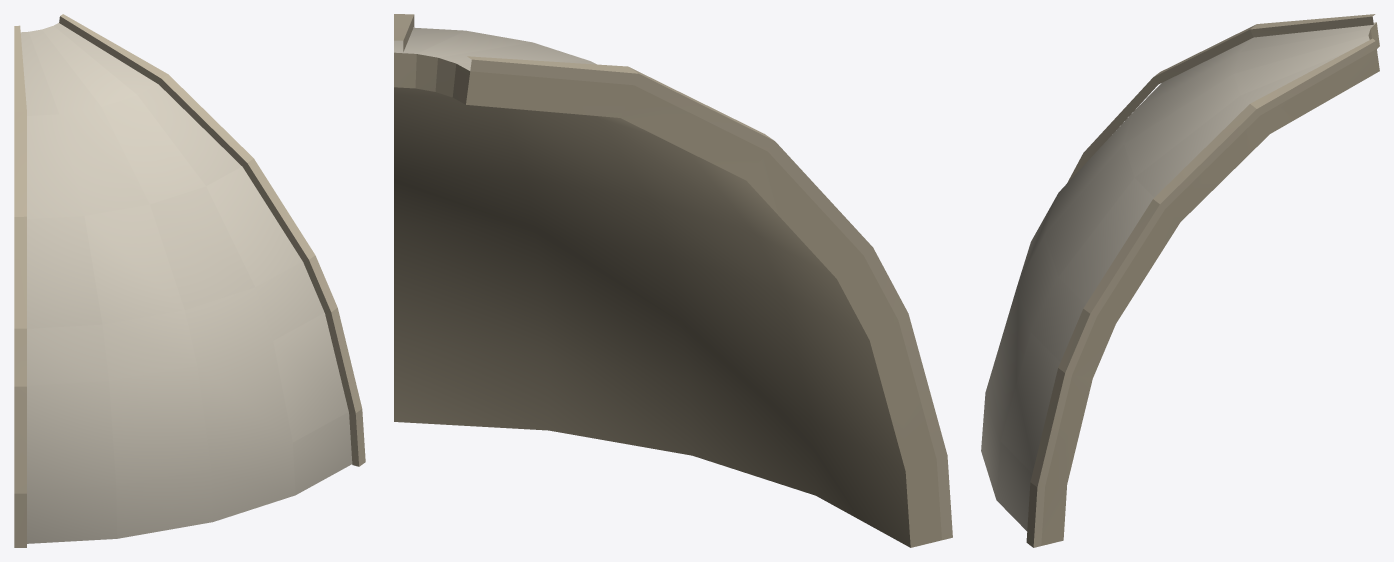
The model's file is dome.panel_6.plaster.glb.
The picture shows the model from 3 angles, left to right: view 1: azimuth 30°, elevation 25°; view 2: azimuth 150°, elevation 25°; view 3: azimuth 270°, elevation 25°; orthographic projection. The views are drawn at different scales.
Parts seen in each view (by area): view 1: dome_panel_6_plaster; view 2: dome_panel_6_plaster; view 3: dome_panel_6_plaster.
Boxes of the visible parts, x1,y1,x2,y2 form: dome_panel_6_plaster: [14, 14, 365, 547]; dome_panel_6_plaster: [394, 14, 952, 547]; dome_panel_6_plaster: [981, 14, 1379, 547].
Size of what is drawn, in the model's own units: 3.57 by 3.63 by 3.1.
